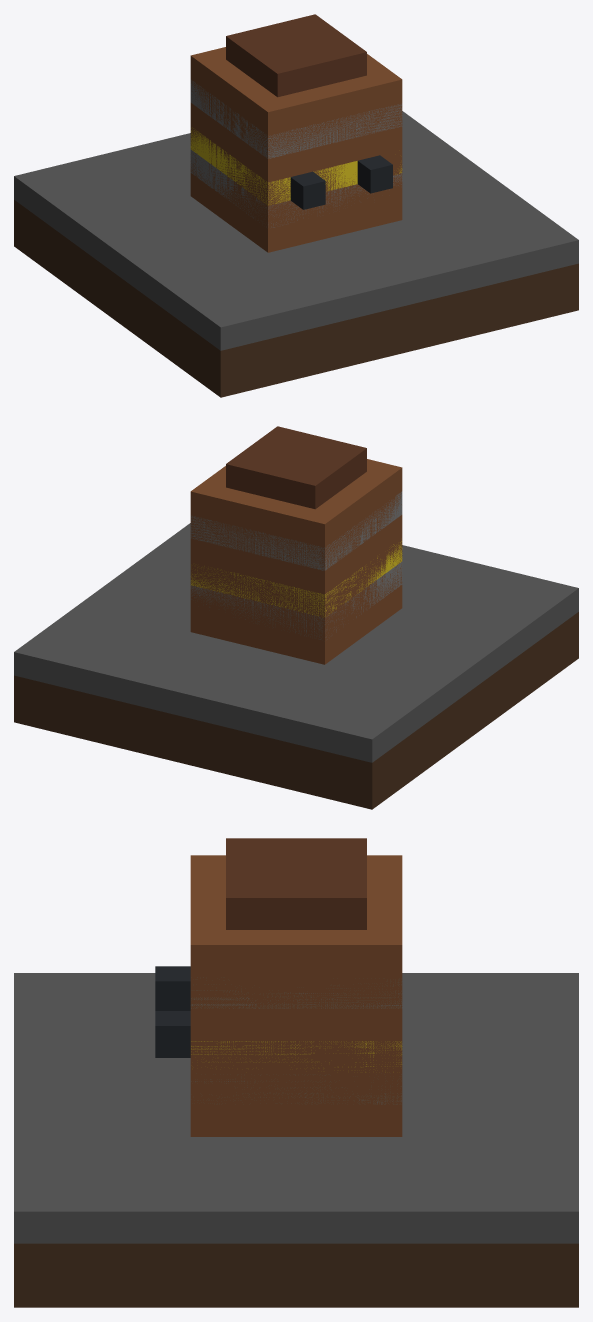
The model's file is tile_barrel.glb.
The picture shows the model from 3 angles, top to bottom: view 1: azimuth 30°, elevation 25°; view 2: azimuth 150°, elevation 25°; view 3: azimuth 270°, elevation 25°; orthographic projection. The views are drawn at different scales.
Parts seen in each view (by area): view 1: Top mesh, Barrel mesh, Base mesh, Band mesh, Hazard mesh; view 2: Top mesh, Barrel mesh, Base mesh, Band mesh, Hazard mesh; view 3: Top mesh, Barrel mesh, Base mesh, Hazard mesh, Band mesh.
Part boxes in pixels (x1,y1,x2,y2): Top mesh: (14, 14, 578, 350); Barrel mesh: (190, 47, 402, 252); Base mesh: (14, 200, 578, 397); Band mesh: (190, 80, 402, 227); Hazard mesh: (190, 127, 402, 209); Top mesh: (14, 426, 578, 762); Barrel mesh: (190, 459, 402, 664); Base mesh: (14, 612, 578, 809); Band mesh: (191, 491, 402, 639); Hazard mesh: (191, 541, 402, 617); Top mesh: (14, 838, 578, 1243); Barrel mesh: (190, 855, 402, 1136); Base mesh: (14, 1243, 578, 1307); Hazard mesh: (155, 966, 402, 1072); Band mesh: (191, 977, 402, 1104).
Size of the model in its own units: 16 by 10 by 16.
1 material, 1 textured.
